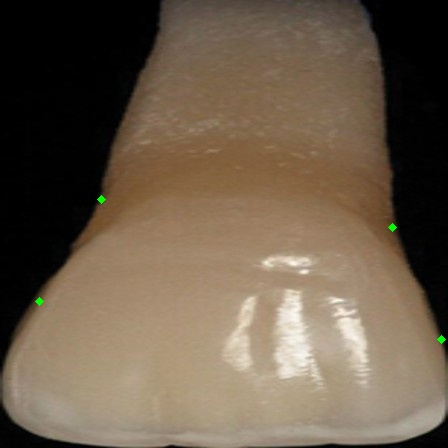coin_1: (101, 199, 121, 219)
coin_2: (39, 301, 59, 321)
coin_3: (392, 227, 412, 247)
coin_4: (441, 339, 448, 359)
